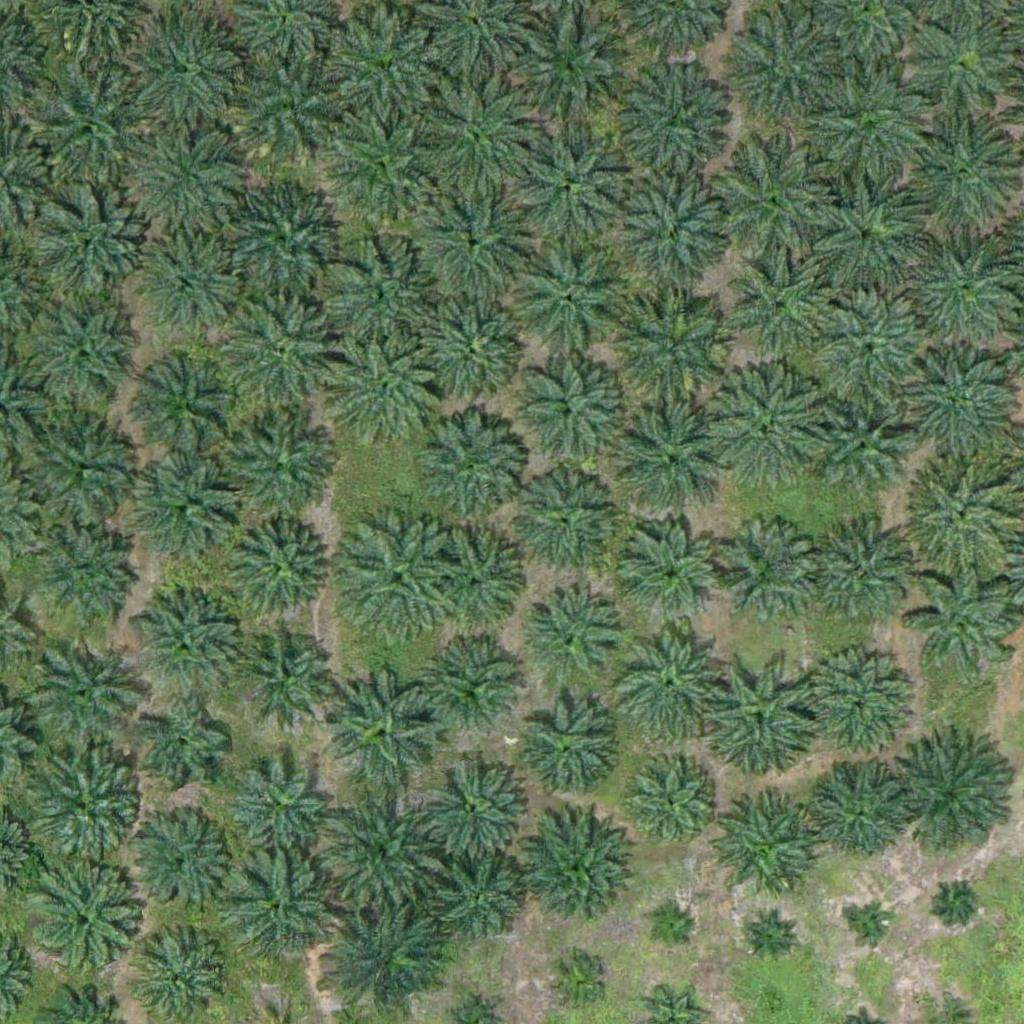Kelapa_Sawit: (27, 57, 152, 183), (28, 186, 153, 312), (21, 406, 146, 532), (123, 124, 248, 250), (124, 14, 249, 140), (221, 177, 346, 303), (217, 288, 342, 414), (325, 333, 450, 459), (318, 235, 443, 361), (410, 72, 535, 198), (412, 176, 537, 302), (408, 283, 533, 409), (404, 404, 529, 530), (506, 354, 631, 480), (506, 237, 631, 363), (616, 58, 741, 184), (612, 284, 737, 410), (611, 400, 736, 526), (709, 140, 834, 266), (716, 8, 841, 134), (805, 71, 930, 197), (799, 174, 924, 300), (807, 296, 932, 422), (894, 347, 1019, 473), (897, 112, 1022, 238), (700, 654, 825, 780), (608, 620, 733, 746), (333, 515, 458, 641), (318, 785, 443, 911), (326, 896, 451, 1022), (512, 120, 637, 245), (512, 8, 637, 133), (612, 171, 737, 296), (707, 367, 832, 492), (896, 735, 1021, 860), (19, 743, 144, 868), (19, 862, 144, 987), (517, 816, 630, 930), (26, 299, 139, 412), (325, 6, 438, 119), (234, 59, 347, 172), (908, 562, 1021, 675), (797, 648, 910, 761), (226, 854, 339, 967), (131, 589, 244, 702), (28, 520, 141, 633), (25, 638, 138, 751), (418, 746, 530, 860), (328, 666, 440, 780), (133, 349, 245, 462), (222, 415, 334, 528), (909, 457, 1021, 570), (706, 798, 818, 911), (333, 112, 433, 213), (732, 258, 832, 359), (807, 759, 907, 860), (813, 524, 913, 625), (712, 523, 812, 624), (622, 526, 722, 627), (621, 753, 721, 854), (510, 473, 610, 574), (522, 589, 622, 690), (424, 522, 524, 623), (230, 755, 330, 856), (134, 701, 234, 802), (129, 810, 229, 911), (145, 244, 245, 344), (913, 20, 1013, 120), (514, 698, 614, 798), (427, 637, 527, 737), (227, 517, 327, 617), (236, 625, 336, 725), (139, 461, 239, 561), (436, 857, 524, 945), (817, 406, 904, 495), (544, 950, 607, 1013), (745, 911, 795, 961), (646, 906, 696, 956), (936, 881, 974, 919), (853, 907, 890, 945)
